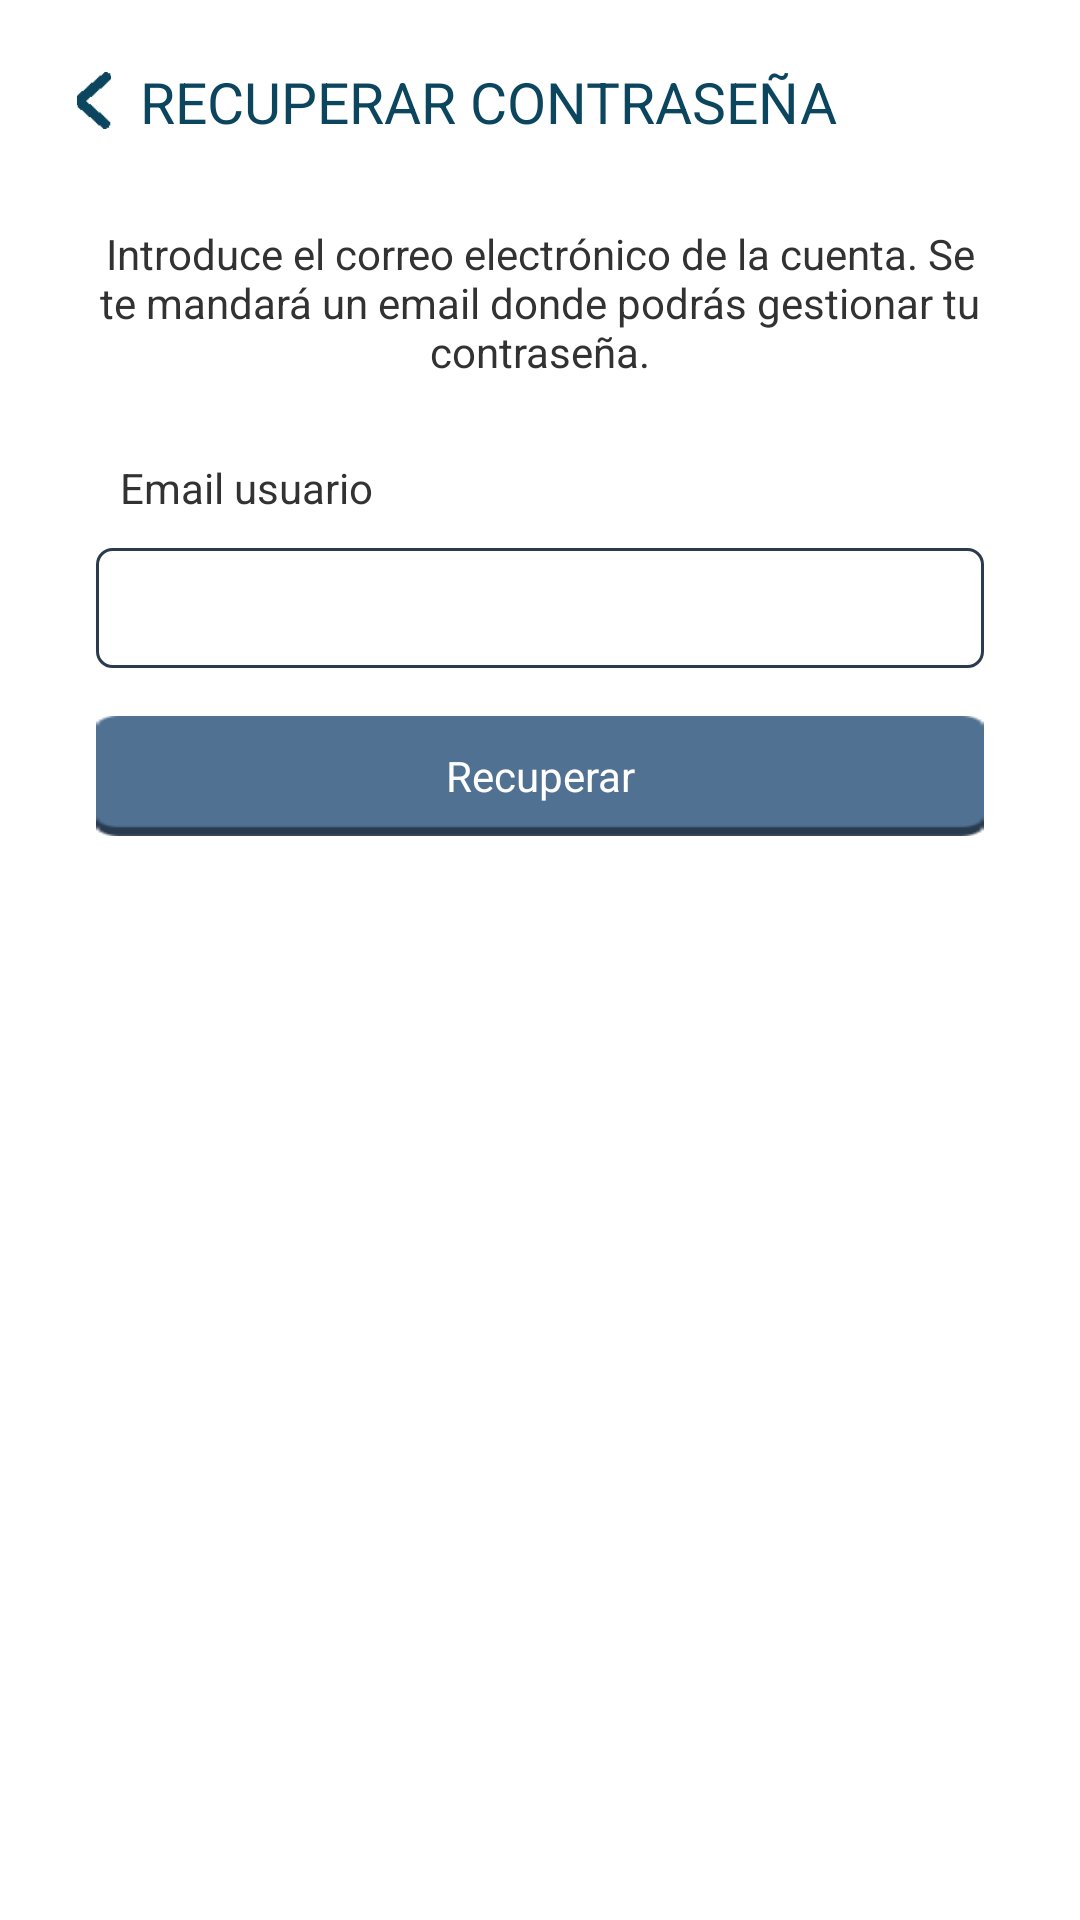

Where to tap for icons on this 1080×1920 app screen, as [x,y]:
atras: [94,100]
